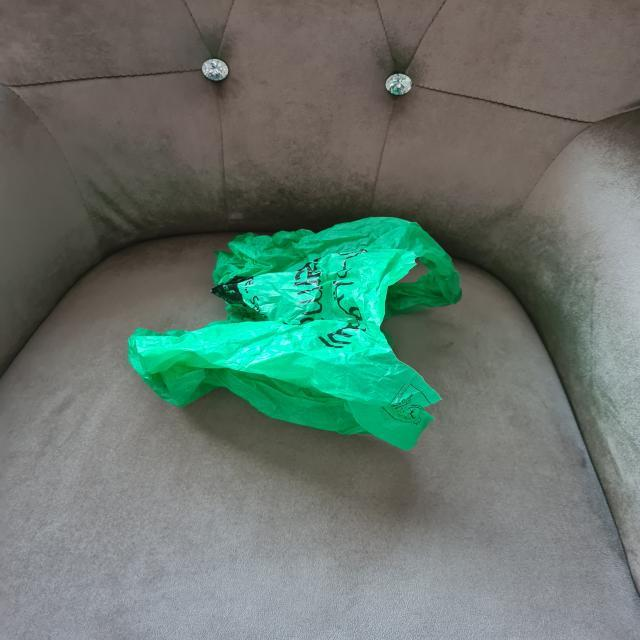plastic: (128, 220, 460, 448)
